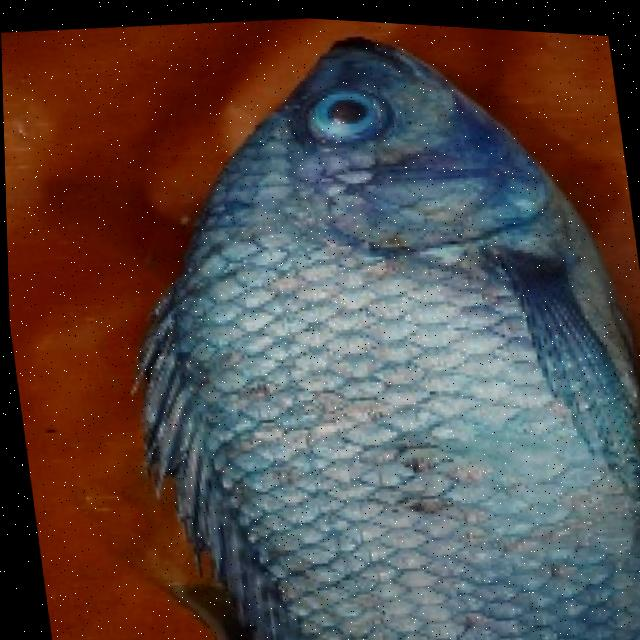Non-Fresh: (150, 125, 640, 640), (282, 65, 402, 162)
